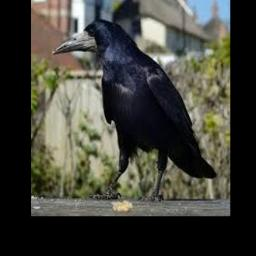Crow: (53, 17, 216, 201)
